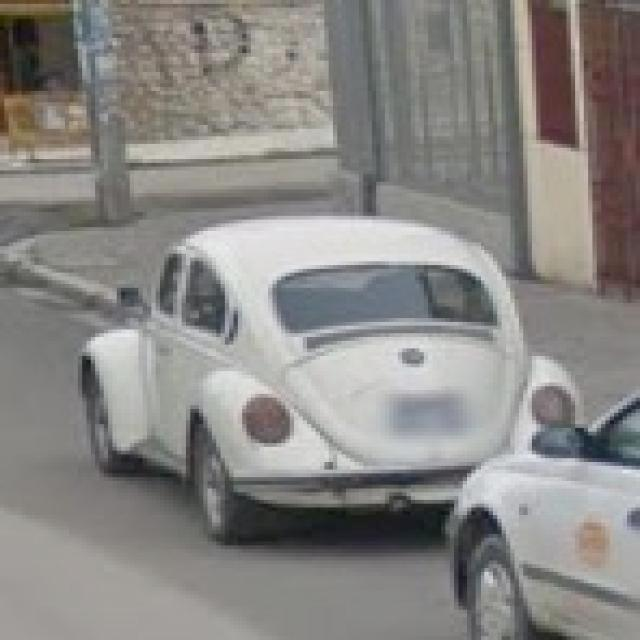car: (80, 217, 563, 527)
